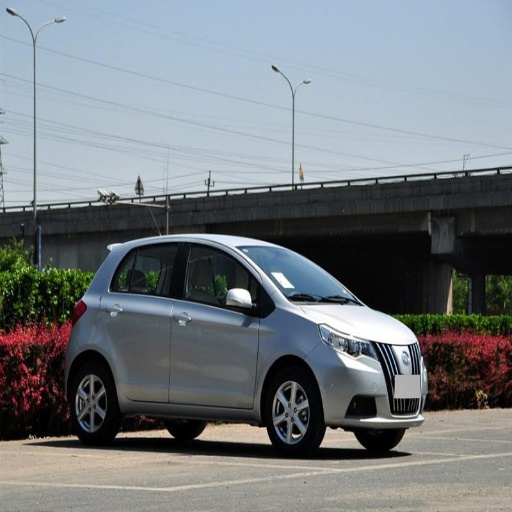back_right_door: (103, 241, 184, 400)
front_bumper: (317, 342, 426, 427)
front_right_door: (169, 241, 261, 406)
